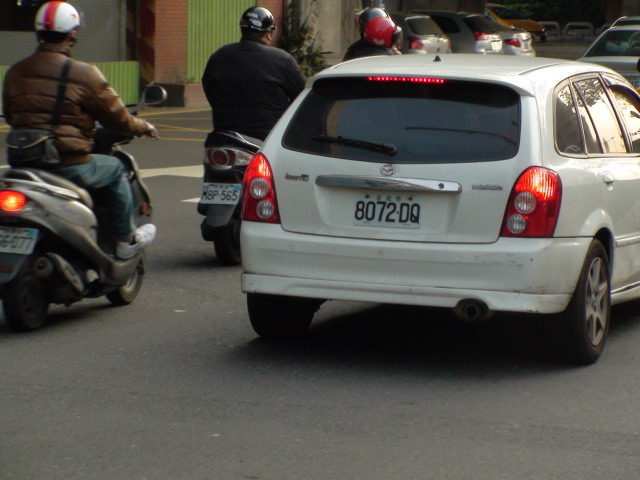plate: (350, 192, 422, 230), (1, 223, 43, 262), (196, 177, 245, 210)
